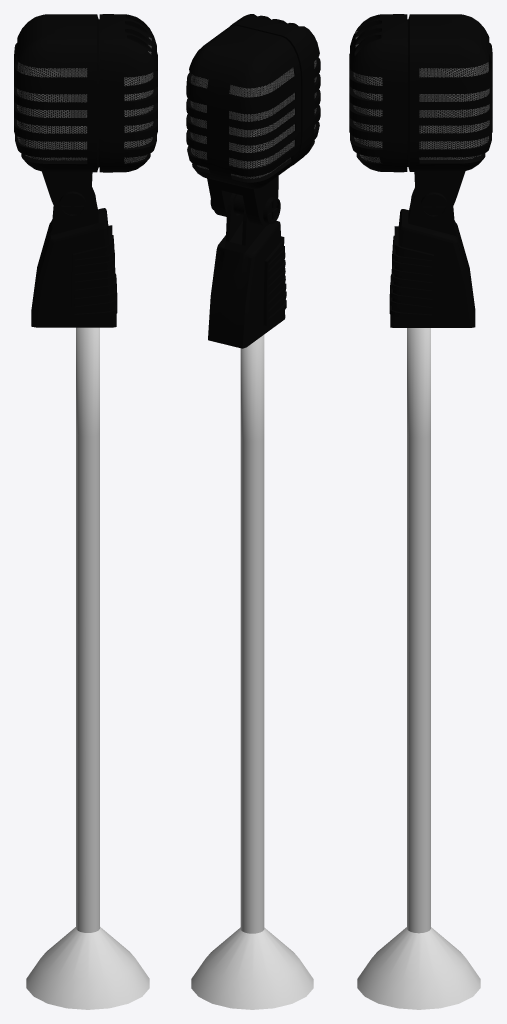
The model's file is Microfon.fbx.
3 renders of one model, left to right at view 1: azimuth 90°, elevation 25°; view 2: azimuth 150°, elevation 25°; view 3: azimuth 270°, elevation 25°, orthographic.
Visible parts, largest first — view 1: ChamferBox001; view 2: ChamferBox001; view 3: ChamferBox001.
Boxes of the visible parts, x1,y1,x2,y2 form: ChamferBox001: [14, 14, 157, 1009]; ChamferBox001: [186, 14, 320, 1009]; ChamferBox001: [349, 14, 492, 1009].
Bounding box in the file's own units: 16.41 × 138 × 18.82.
Materials: 3 (1 with a texture image).
